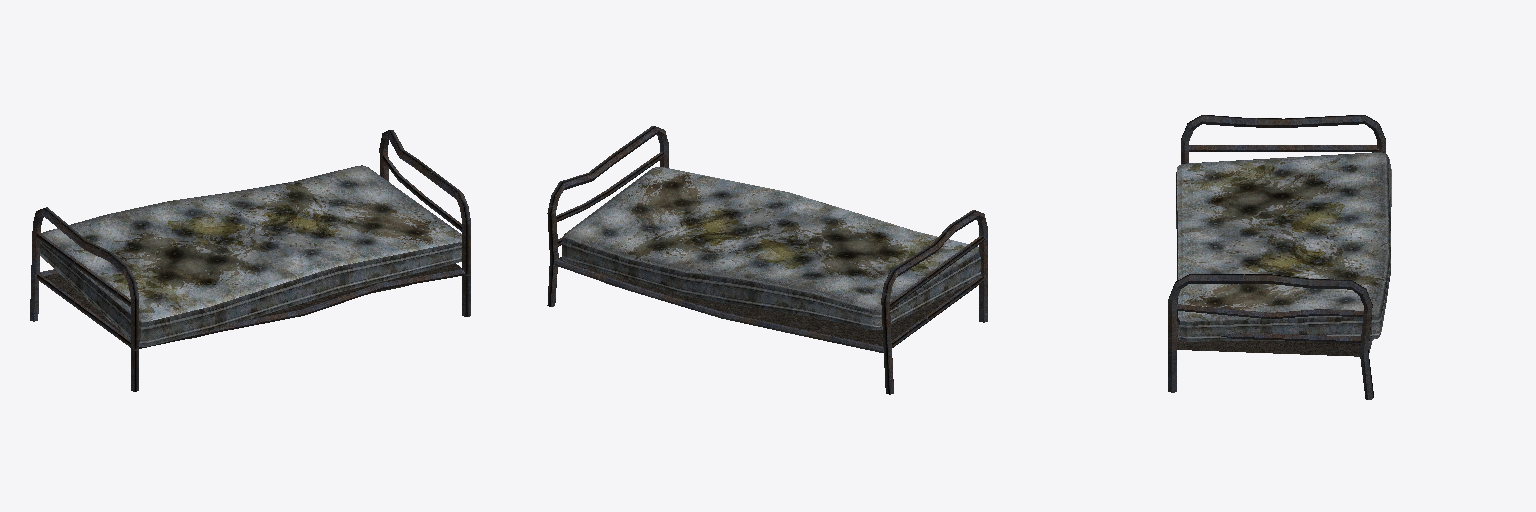
3 views of the same model, side by side, from view 1: azimuth 30°, elevation 25°; view 2: azimuth 150°, elevation 25°; view 3: azimuth 270°, elevation 25° (orthographic).
Parts seen in each view (by area): view 1: Gotham_Objects_Mattress, Gotham_Objects_Bedframe; view 2: Gotham_Objects_Mattress, Gotham_Objects_Bedframe; view 3: Gotham_Objects_Mattress, Gotham_Objects_Bedframe.
Boxes of the visible parts, x1,y1,x2,y2 form: Gotham_Objects_Mattress: [40, 165, 461, 346]; Gotham_Objects_Bedframe: [30, 130, 470, 391]; Gotham_Objects_Mattress: [562, 167, 980, 329]; Gotham_Objects_Bedframe: [547, 126, 987, 394]; Gotham_Objects_Mattress: [1176, 152, 1391, 341]; Gotham_Objects_Bedframe: [1168, 115, 1385, 399].
Size of the model in its own units: 5.32 by 1.68 by 2.92.
Materials: 2 (2 with a texture image).